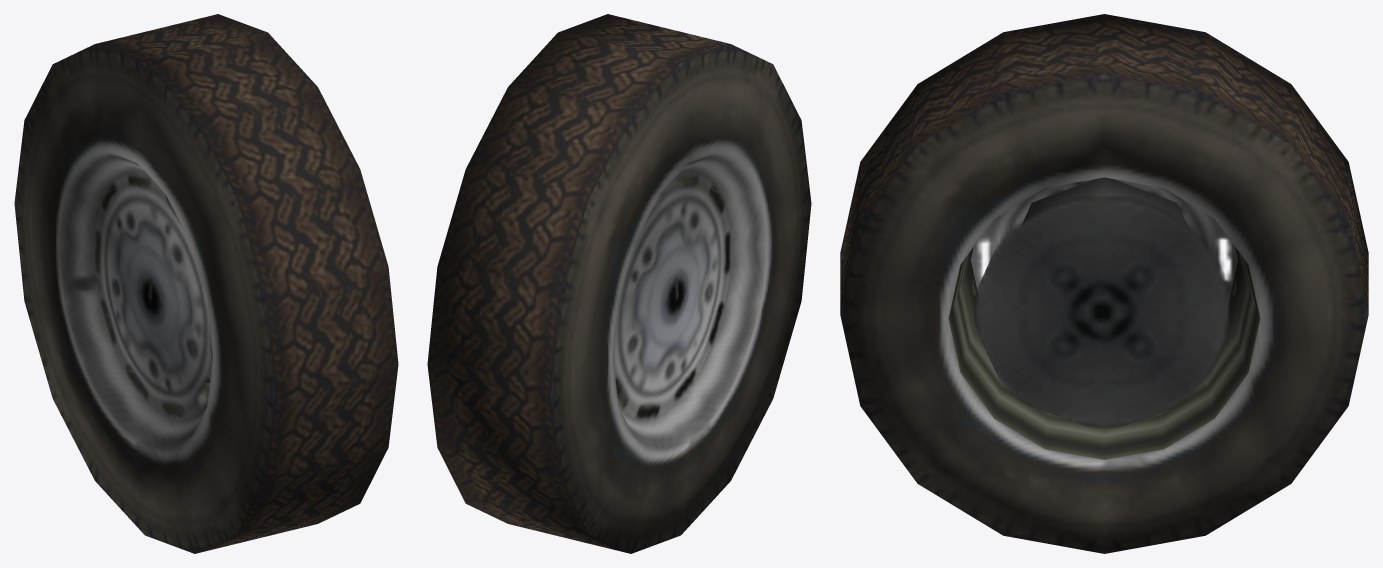
Rendered from wheel_front_left.glb.
3 views of the same model, side by side, from view 1: azimuth 30°, elevation 25°; view 2: azimuth 150°, elevation 25°; view 3: azimuth 270°, elevation 25° (orthographic).
Visible parts, largest first — view 1: tire_fl; view 2: tire_fl; view 3: tire_fl.
Part boxes in pixels (x1=…): tire_fl: x1=14, y1=14, x2=398, y2=553; tire_fl: x1=427, y1=14, x2=811, y2=553; tire_fl: x1=840, y1=14, x2=1368, y2=553.
Bounding box in the file's own units: 0.1881 × 0.6041 × 0.6041.
Materials: 2 (2 with a texture image).
